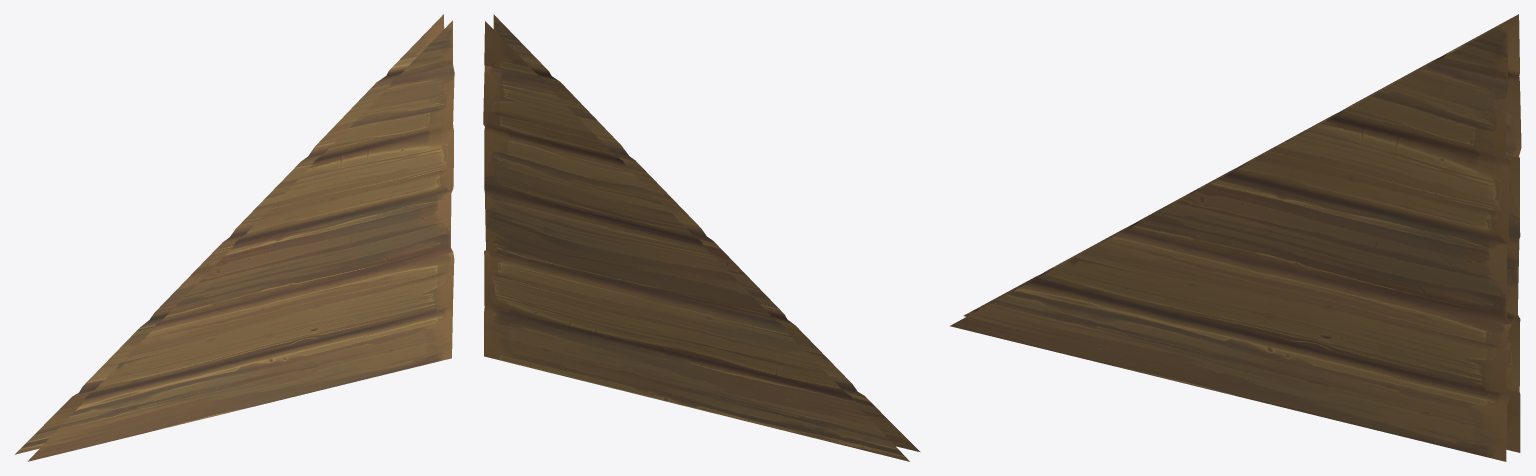
The model's file is SM_MOD_wall_sloped_planks_hor_town.fbx.
The picture shows the model from 3 angles, left to right: view 1: azimuth 30°, elevation 25°; view 2: azimuth 150°, elevation 25°; view 3: azimuth 330°, elevation 25°; orthographic projection. The views are drawn at different scales.
Visible parts, largest first — view 1: SM_MOD_wall_sloped_planks_hor_town; view 2: SM_MOD_wall_sloped_planks_hor_town; view 3: SM_MOD_wall_sloped_planks_hor_town.
Part boxes in pixels (left/top/right/bottom): SM_MOD_wall_sloped_planks_hor_town: left=15, top=14, right=454, bottom=461; SM_MOD_wall_sloped_planks_hor_town: left=483, top=14, right=920, bottom=461; SM_MOD_wall_sloped_planks_hor_town: left=950, top=14, right=1521, bottom=461.
Bounding box in the file's own units: 358 × 268 × 16.59.
